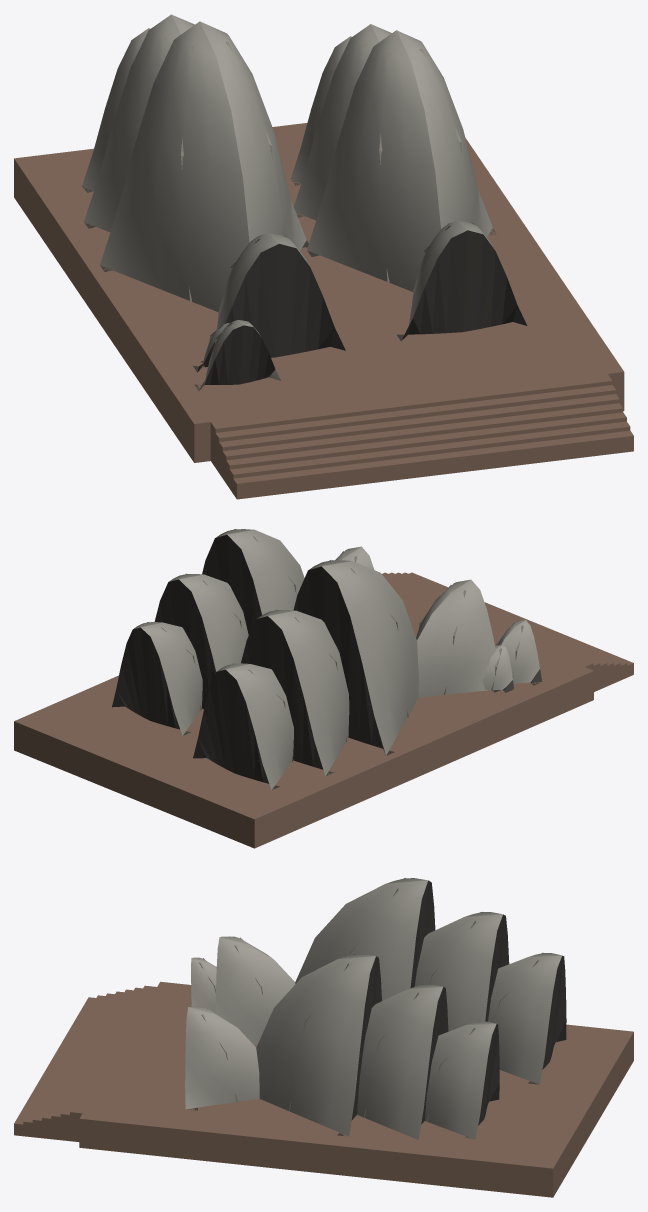
The model's file is sydney_opera_house-r3-lod1.glb.
The picture shows the model from 3 angles, top to bottom: view 1: azimuth 30°, elevation 25°; view 2: azimuth 150°, elevation 25°; view 3: azimuth 270°, elevation 25°; orthographic projection. The views are drawn at different scales.
Parts seen in each view (by area): view 1: Tarana granite, Glazed chevron tiles, Topaz glass, bronze mullions; view 2: Tarana granite, Glazed chevron tiles, Topaz glass, bronze mullions, Matte buff lid tiles; view 3: Glazed chevron tiles, Tarana granite, Topaz glass, bronze mullions, Matte buff lid tiles.
Part boxes in pixels (x1,y1,x2,y2): Tarana granite: (14,123,633,499); Glazed chevron tiles: (82,14,494,390); Topaz glass, bronze mullions: (82,179,527,390); Tarana granite: (14,572,633,848); Glazed chevron tiles: (133,529,539,789); Topaz glass, bronze mullions: (112,534,542,789); Matte buff lid tiles: (147,529,523,761); Glazed chevron tiles: (185,878,561,1139); Tarana granite: (14,981,633,1197); Topaz glass, bronze mullions: (188,880,566,1138); Matte buff lid tiles: (199,878,542,1122).
Bounding box in the file's own units: 139 × 68 × 193.
